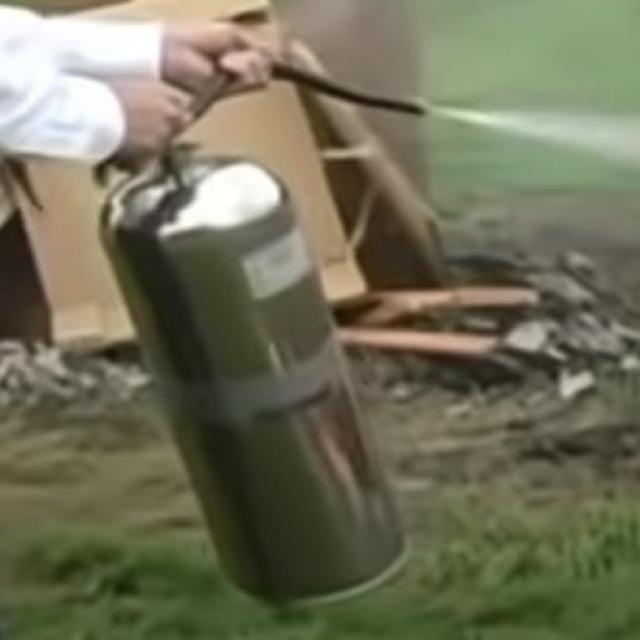fire_extinguisher: (80, 52, 436, 610)
